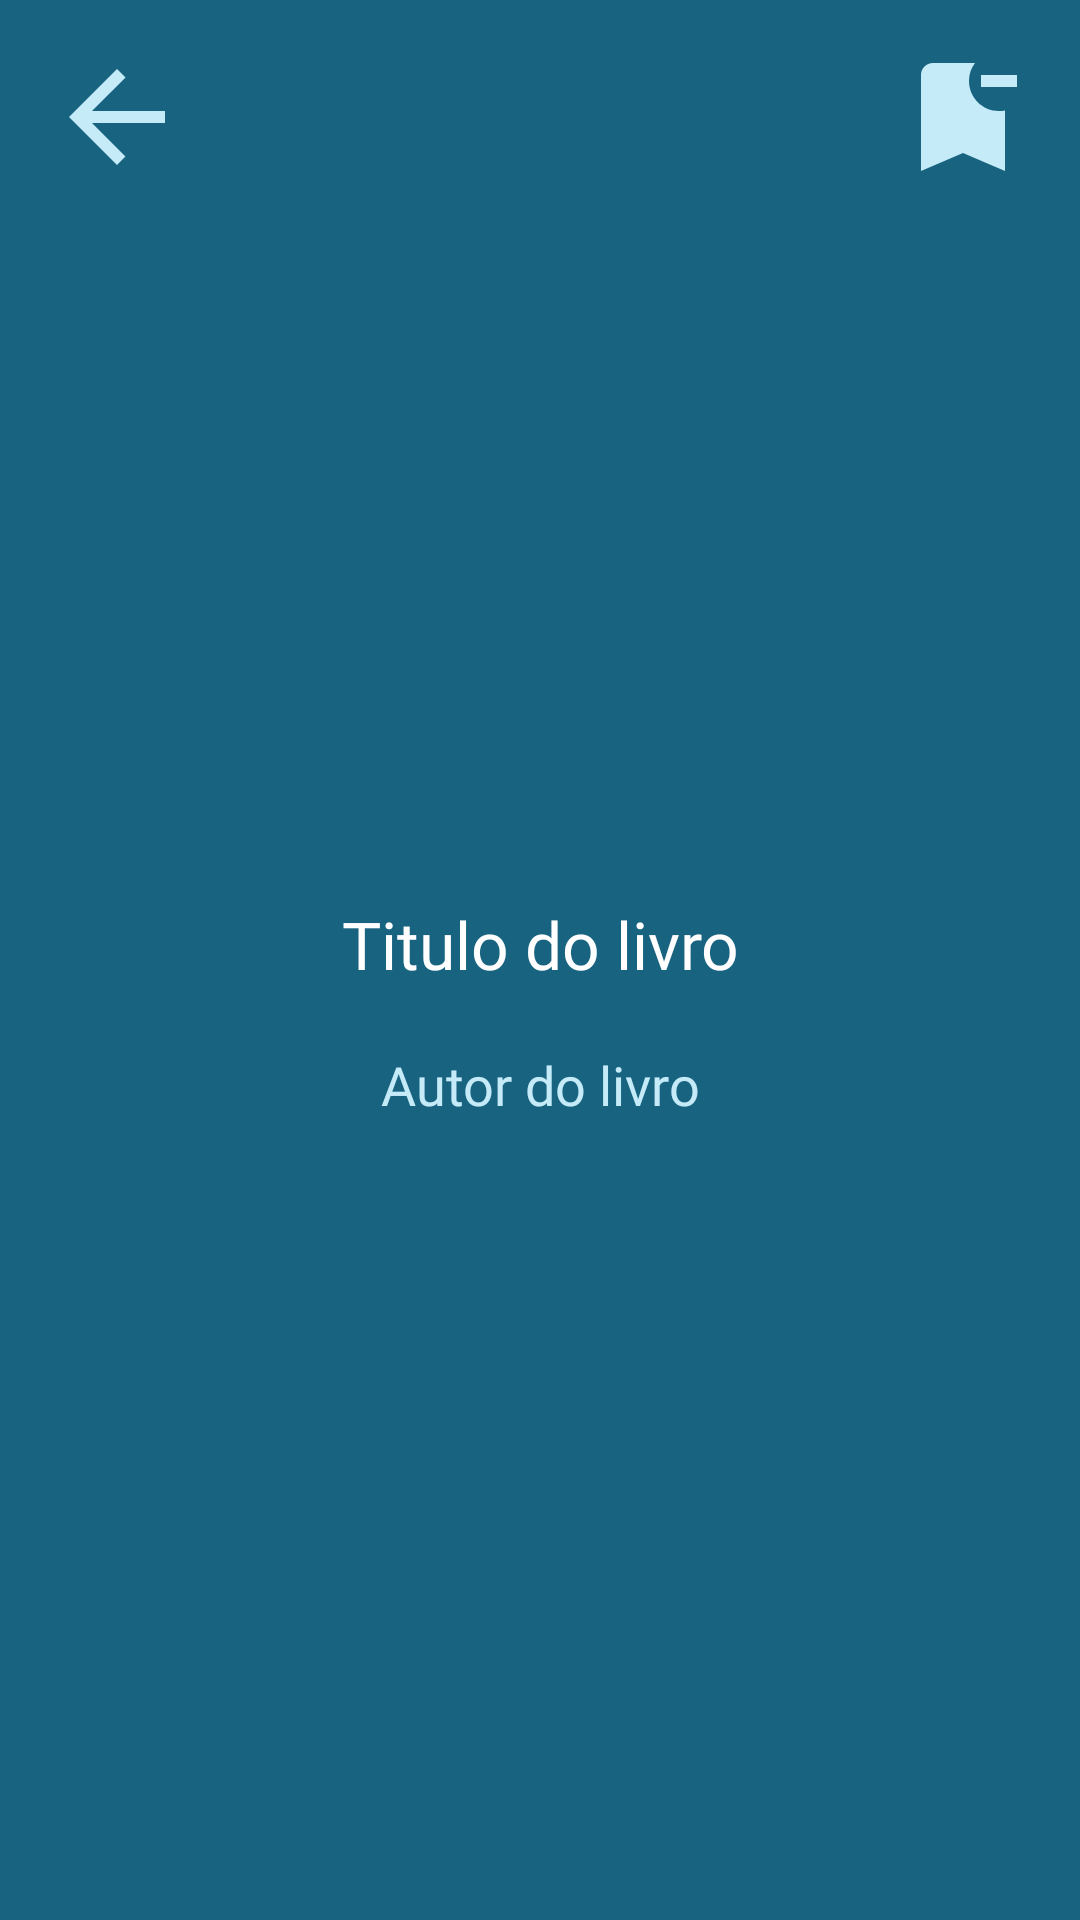

Screen size 1080w x 1920h. Icon name, then its box in pixels as [x1,y1,x2,y2]:
bookmark remove: [921,63,1017,171]
return: [69,69,165,165]
